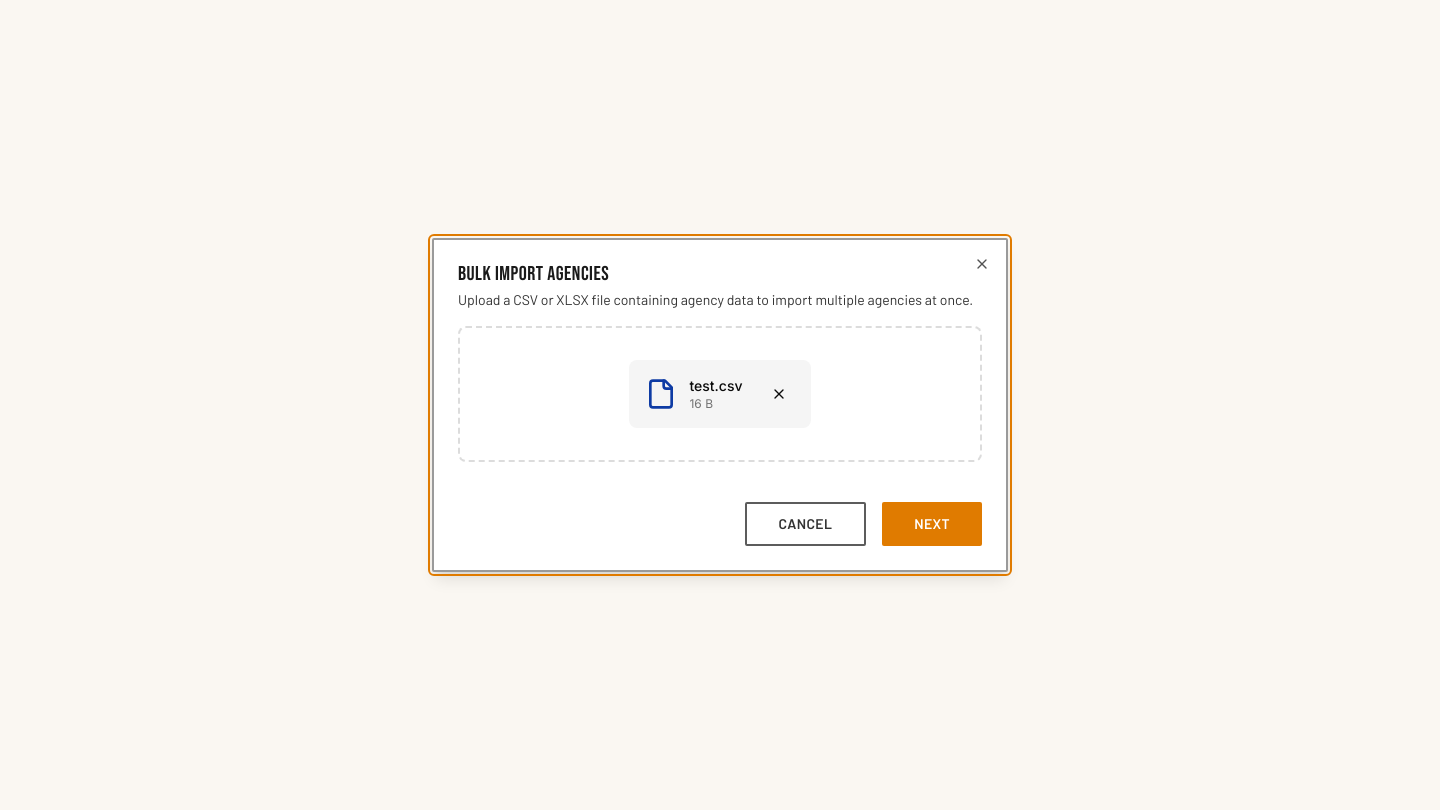
it: BulkImportModal › Next Button Navigation › moves to preview step when Next is clicked with valid file
The width and height of the screenshot is (1440, 810).
Earlier steps of the test are not shown.
Click the button with test id "next-button" at (932, 524), box [882, 502, 982, 546]
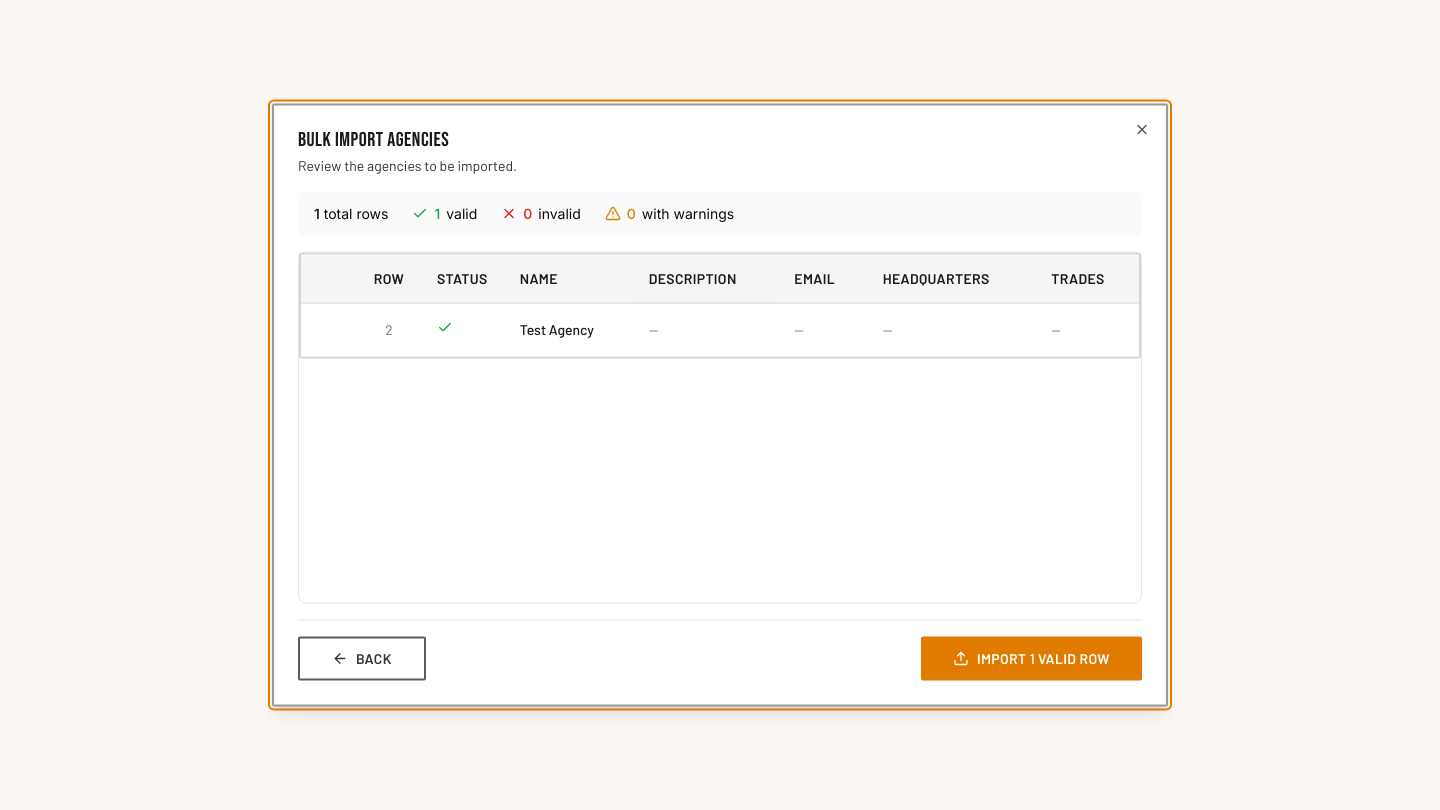
Result: the button with test id "back-button" is shown at [298, 636, 426, 680]
